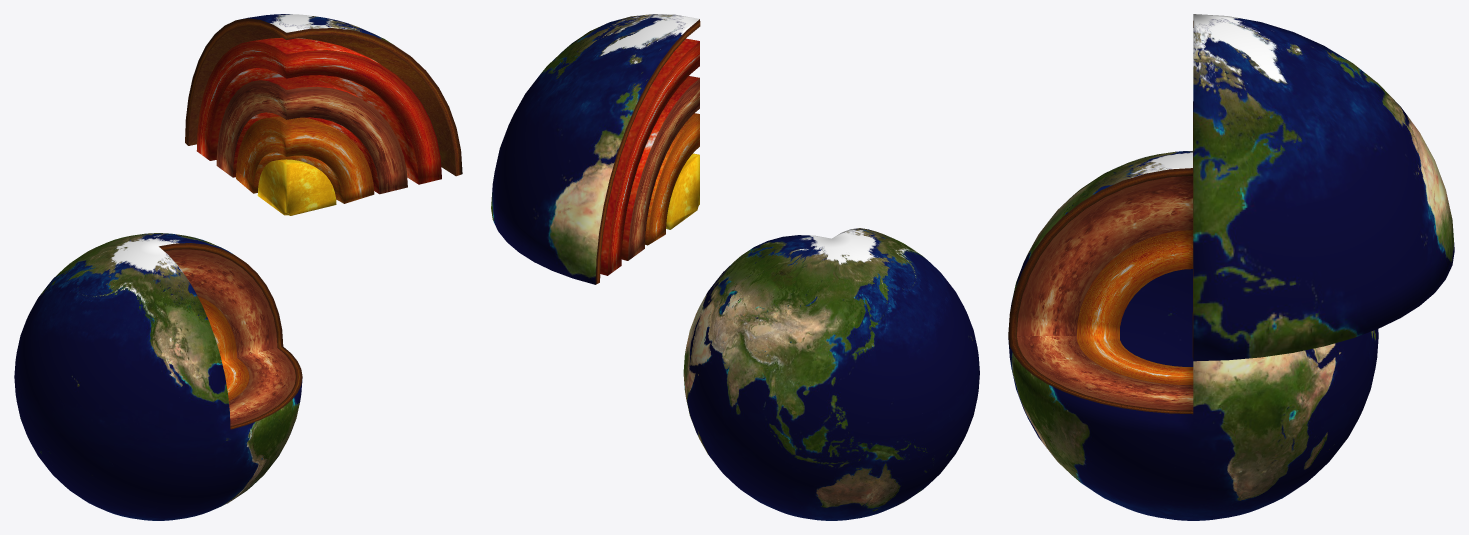
3 views of the same model, side by side, from view 1: azimuth 30°, elevation 25°; view 2: azimuth 150°, elevation 25°; view 3: azimuth 270°, elevation 25° (orthographic). The views are drawn at different scales.
Visible parts, largest first — view 1: Earth layers, Asthenosphere, Mantle, Crust, Outer Core, Inner_Core; view 2: Earth layers, Crust, Asthenosphere, Mantle, Outer Core, Inner_Core; view 3: Earth layers, Crust.
Part boxes in pixels (x1,y1,x2,y2): Earth layers: (14,233,302,520); Asthenosphere: (196,37,441,184); Mantle: (216,77,407,194); Crust: (185,14,462,176); Outer Core: (236,116,374,203); Inner_Core: (257,159,336,215); Earth layers: (683,228,979,520); Crust: (491,14,700,284); Asthenosphere: (600,38,699,275); Mantle: (621,76,699,260); Outer Core: (645,113,699,245); Inner_Core: (666,153,699,229); Earth layers: (1008,151,1378,520); Crust: (1192,14,1454,361).
Bounding box in the file's own units: 3.44 × 3.4 × 2.41.
1 material, 1 textured.
